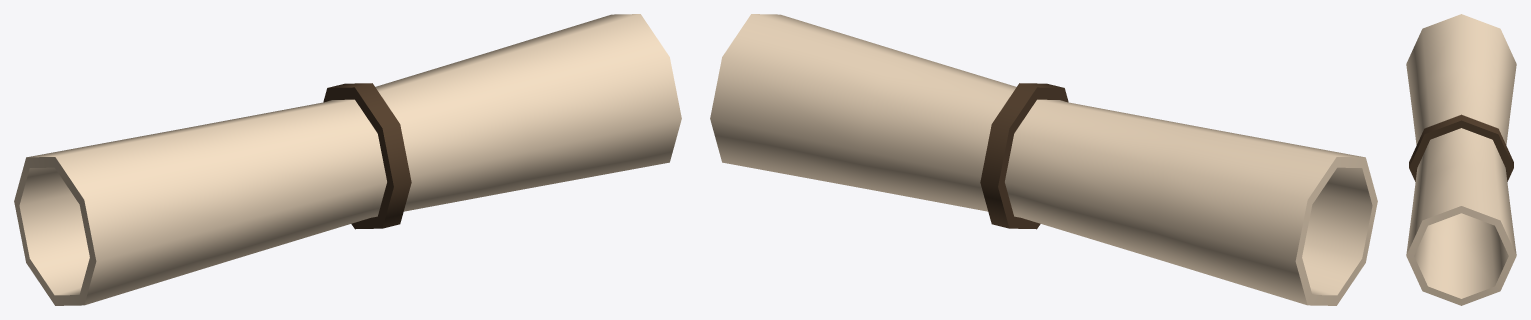
The model's file is SM_scroll_01.fbx.
3 renders of one model, left to right at view 1: azimuth 30°, elevation 25°; view 2: azimuth 150°, elevation 25°; view 3: azimuth 270°, elevation 25°, orthographic. The views are drawn at different scales.
Parts seen in each view (by area): view 1: Cylinder110; view 2: Cylinder110; view 3: Cylinder110.
Boxes of the visible parts, x1,y1,x2,y2 form: Cylinder110: (14, 14, 681, 305); Cylinder110: (710, 14, 1377, 305); Cylinder110: (1406, 14, 1516, 305).
Size of the model in its own units: 17.94 by 4.36 by 4.36.
